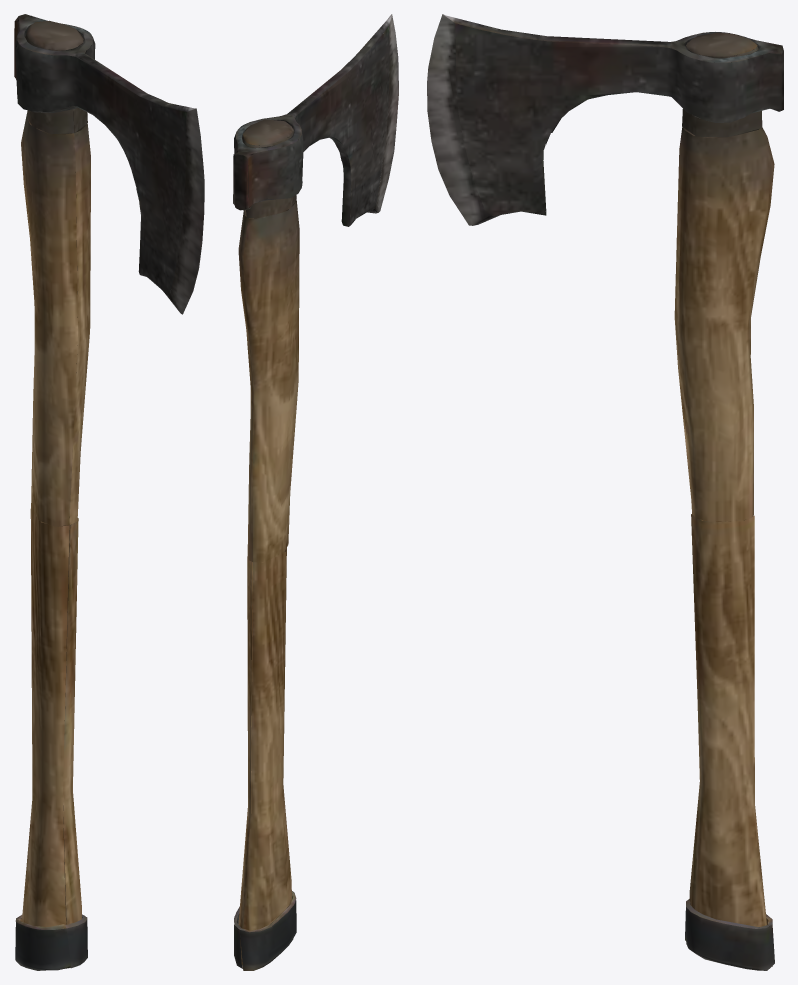
The model's file is wooden_axe.glb.
The picture shows the model from 3 angles, left to right: view 1: azimuth 30°, elevation 25°; view 2: azimuth 150°, elevation 25°; view 3: azimuth 270°, elevation 25°; orthographic projection. The views are drawn at different scales.
Visible parts, largest first — view 1: wooden_axe; view 2: wooden_axe; view 3: wooden_axe.
Part boxes in pixels (box(x1,y1,x2,y2)): wooden_axe: box(14, 14, 204, 970); wooden_axe: box(233, 14, 398, 970); wooden_axe: box(427, 14, 783, 970).
Bounding box in the file's own units: 0.0479 × 0.6308 × 0.2142.
1 material, 1 textured.
